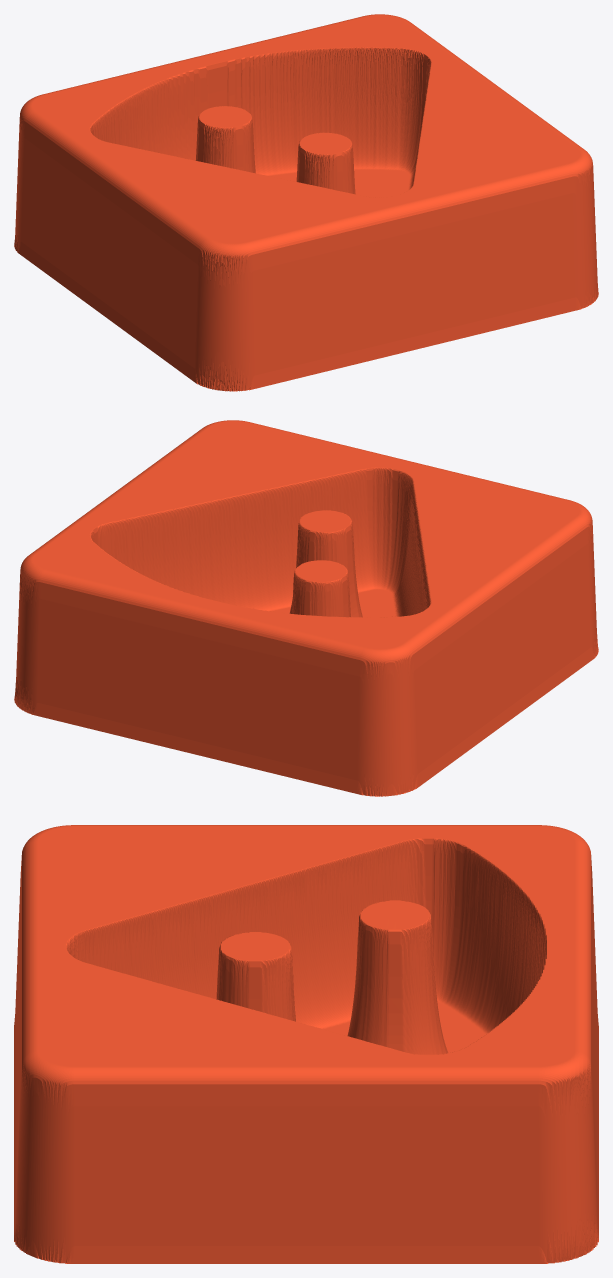
Rendered from mold.glb.
The picture shows the model from 3 angles, top to bottom: view 1: azimuth 30°, elevation 25°; view 2: azimuth 150°, elevation 25°; view 3: azimuth 270°, elevation 25°; orthographic projection. The views are drawn at different scales.
Parts seen in each view (by area): view 1: geometry_0; view 2: geometry_0; view 3: geometry_0.
Boxes of the visible parts, <box> form: geometry_0: <box>14,14,598,391</box>; geometry_0: <box>14,420,598,796</box>; geometry_0: <box>14,825,598,1263</box>.
Size of the model in its own units: 0.0924 by 0.031 by 0.0878.
